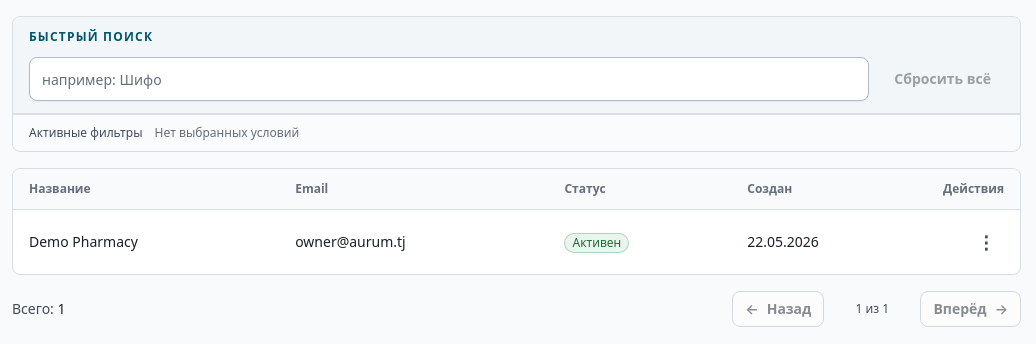
Test case: TenantsPage › shows a view-only administrator no management actions
The width and height of the screenshot is (1036, 344).
Expected: the text "Demo Pharmacy" is shown, 13,210 -> 279,274
Click the button "⋮" at (986, 242), box 968,224 -> 1004,260
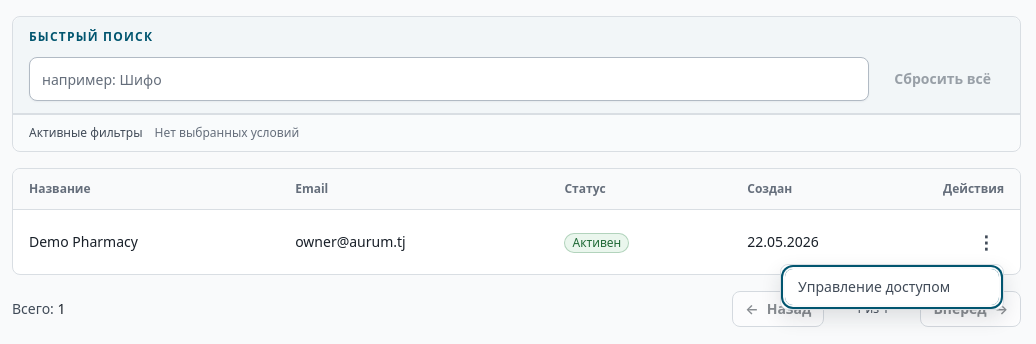
Result: the menu item "Управление доступом" is shown at 785,269 -> 999,305
